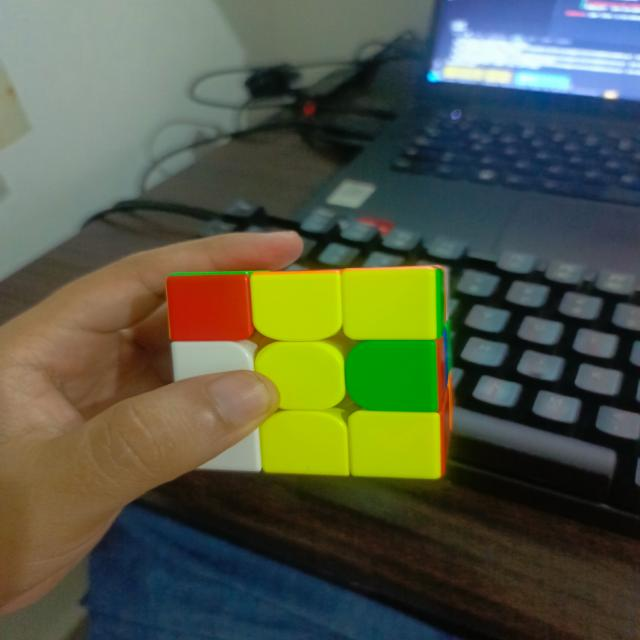rubik: (163, 264, 455, 481)
